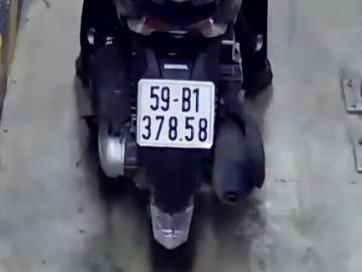num_plate: (136, 78, 214, 148)
